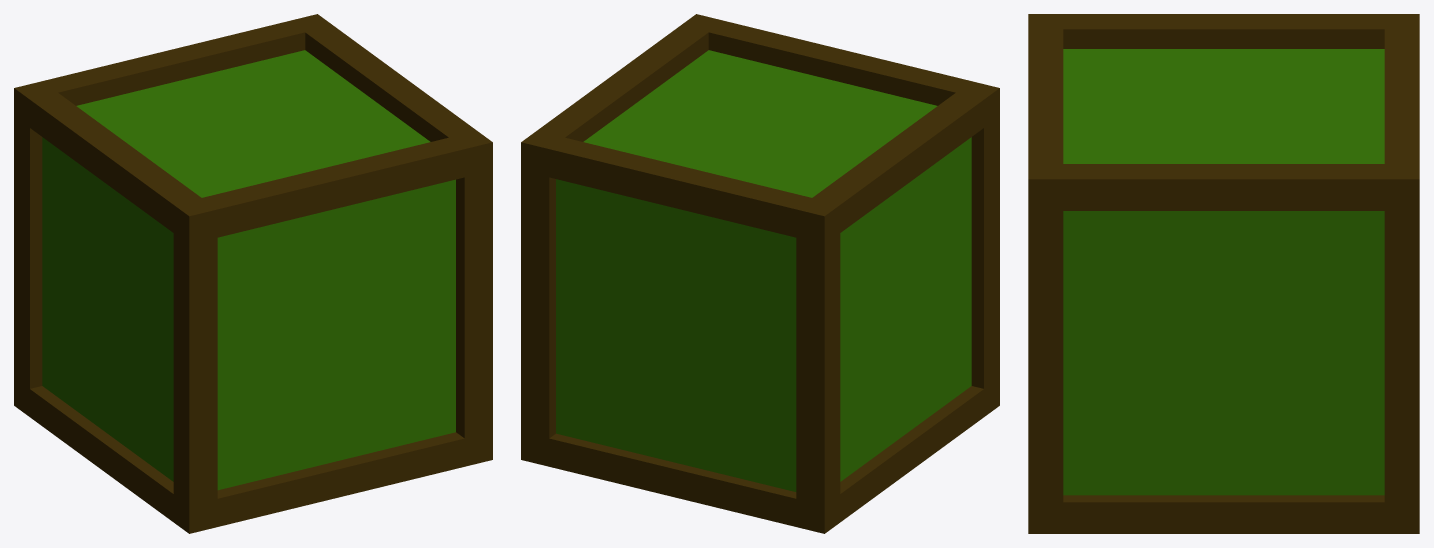
Rendered from ObeliskOfTrials.fbx.
The picture shows the model from 3 angles, left to right: view 1: azimuth 30°, elevation 25°; view 2: azimuth 150°, elevation 25°; view 3: azimuth 270°, elevation 25°; orthographic projection. The views are drawn at different scales.
Visible parts, largest first — view 1: Cube; view 2: Cube; view 3: Cube.
Part boxes in pixels (x1,y1,x2,y2): Cube: (14, 14, 492, 533); Cube: (521, 14, 999, 533); Cube: (1028, 14, 1419, 533).
Size of the model in its own units: 200 by 200 by 200.
